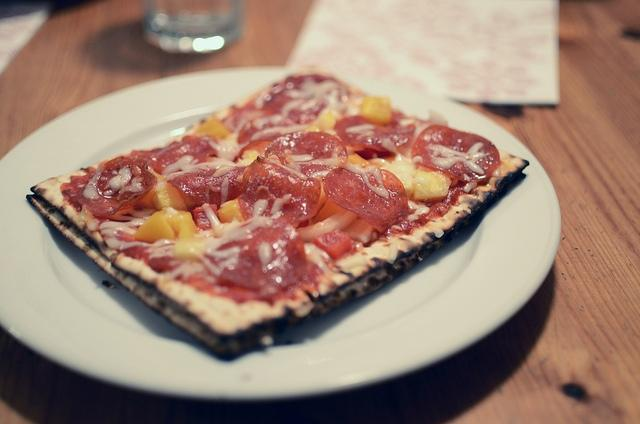pineapple: (131, 208, 203, 262), (408, 171, 452, 203), (195, 118, 231, 142), (362, 97, 392, 123), (217, 198, 244, 224), (315, 108, 340, 132), (236, 150, 260, 166)
